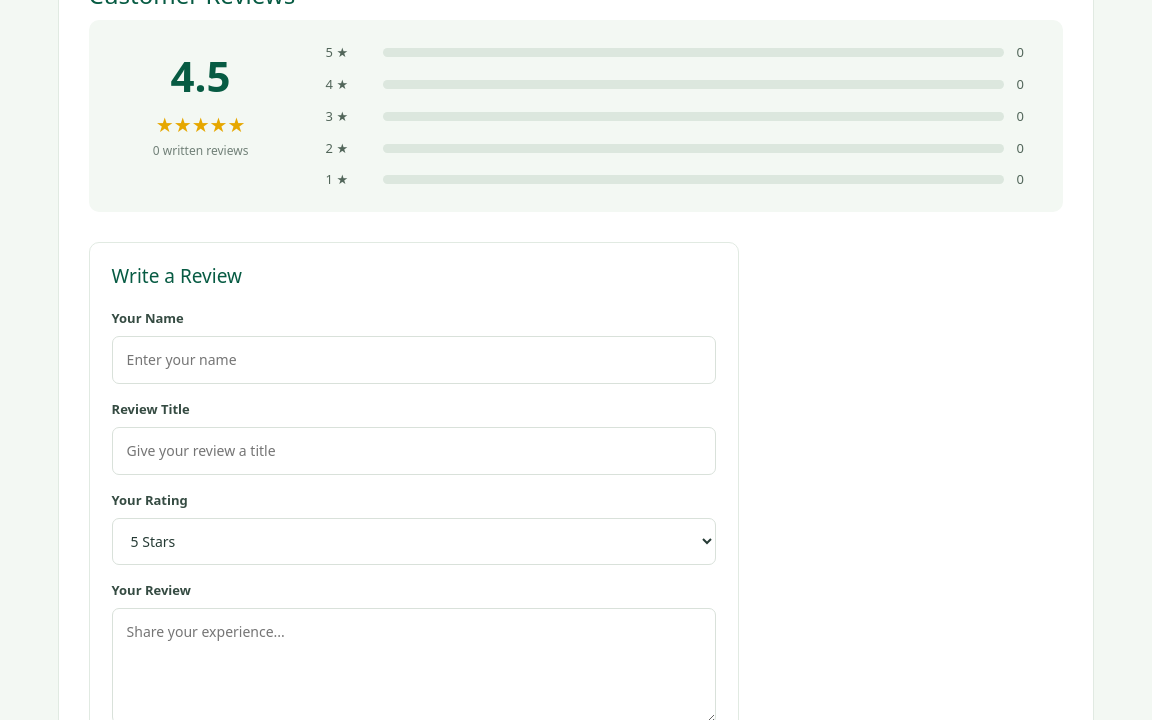
Test case: ProductDetails Component › Customer Reviews › displays the submitted review in the review list
(page scrolled)
In the field with id "review-name": (414,360) [112, 336, 716, 384], type "Test User"
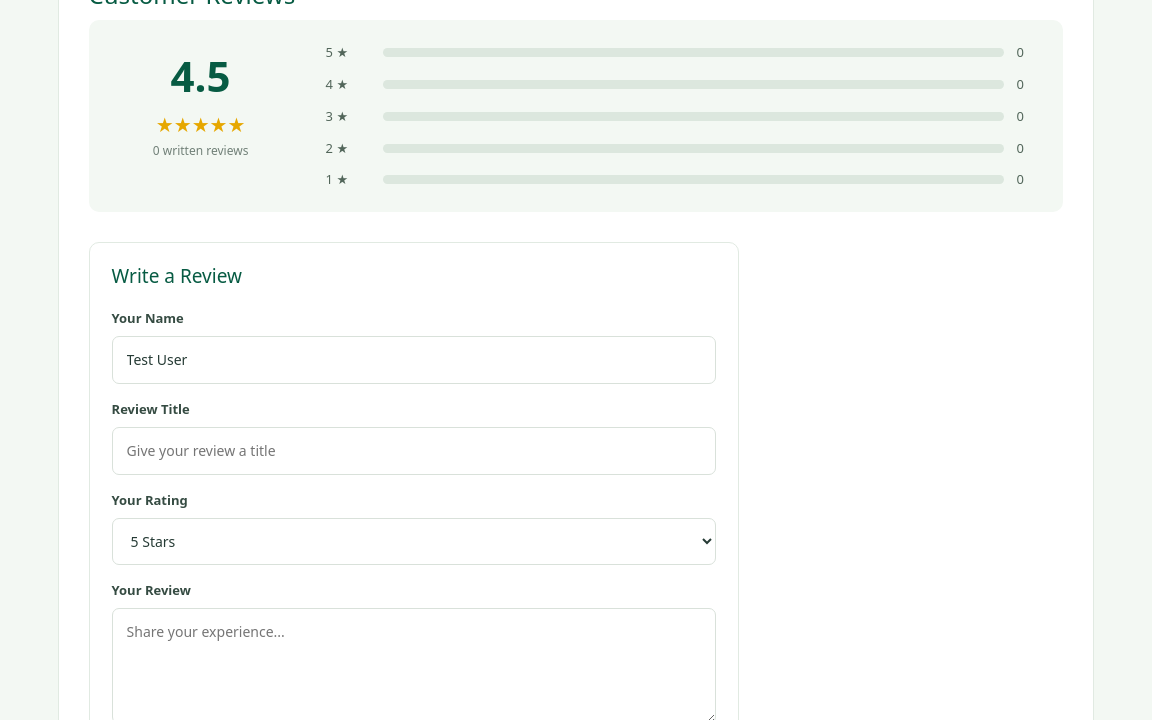
In the field with id "review-title": (414,451) [112, 427, 716, 475], type "Excellent Product"
(page scrolled)
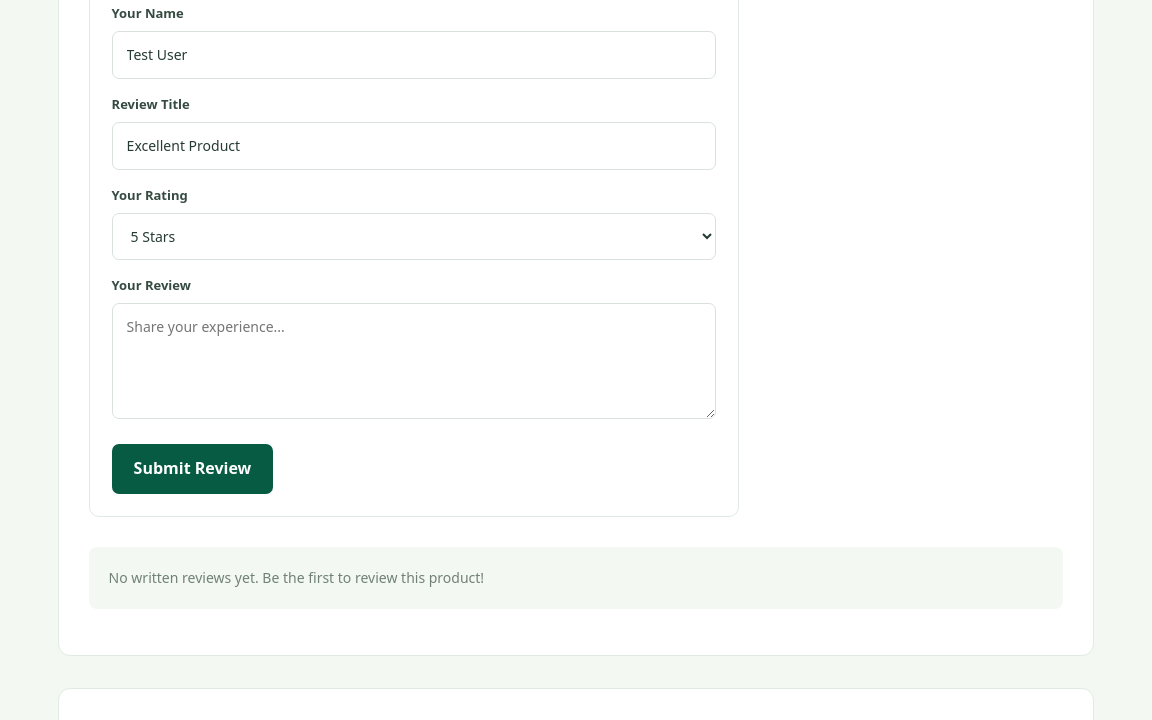
In the text box with id "review-comment": (414,361) [112, 303, 716, 419], type "Very useful and sustainable."
(page scrolled)
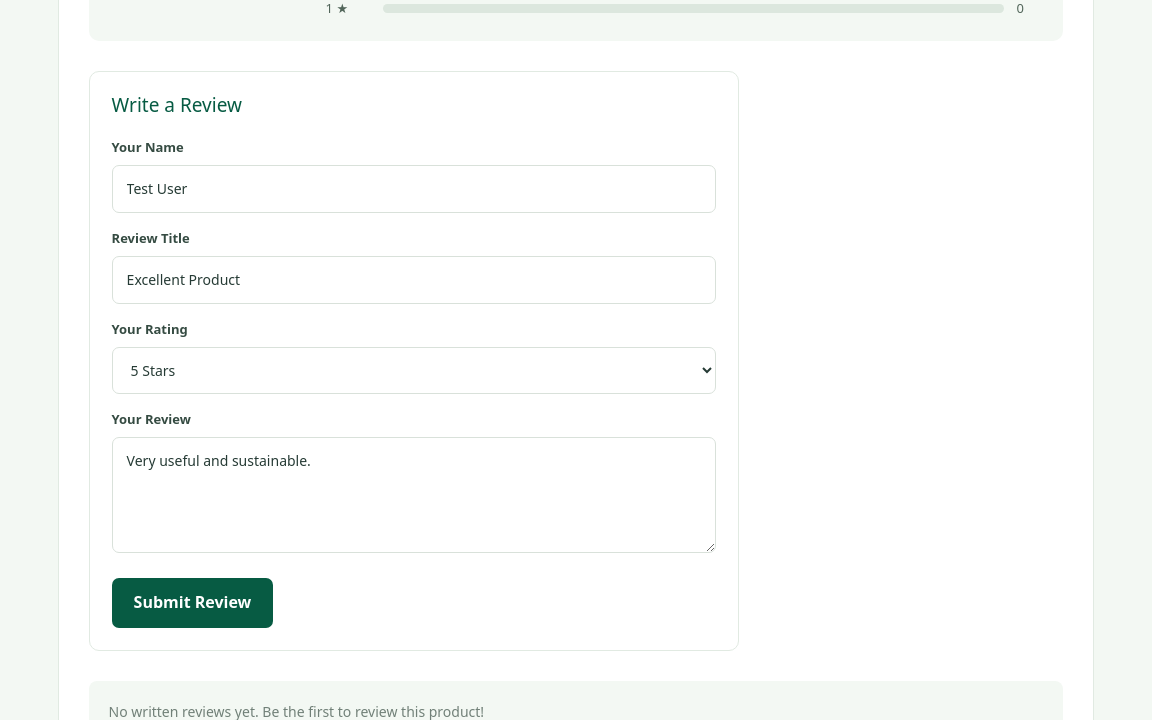
Submit the form with class "review-form", box [89, 71, 739, 651]
(page scrolled)
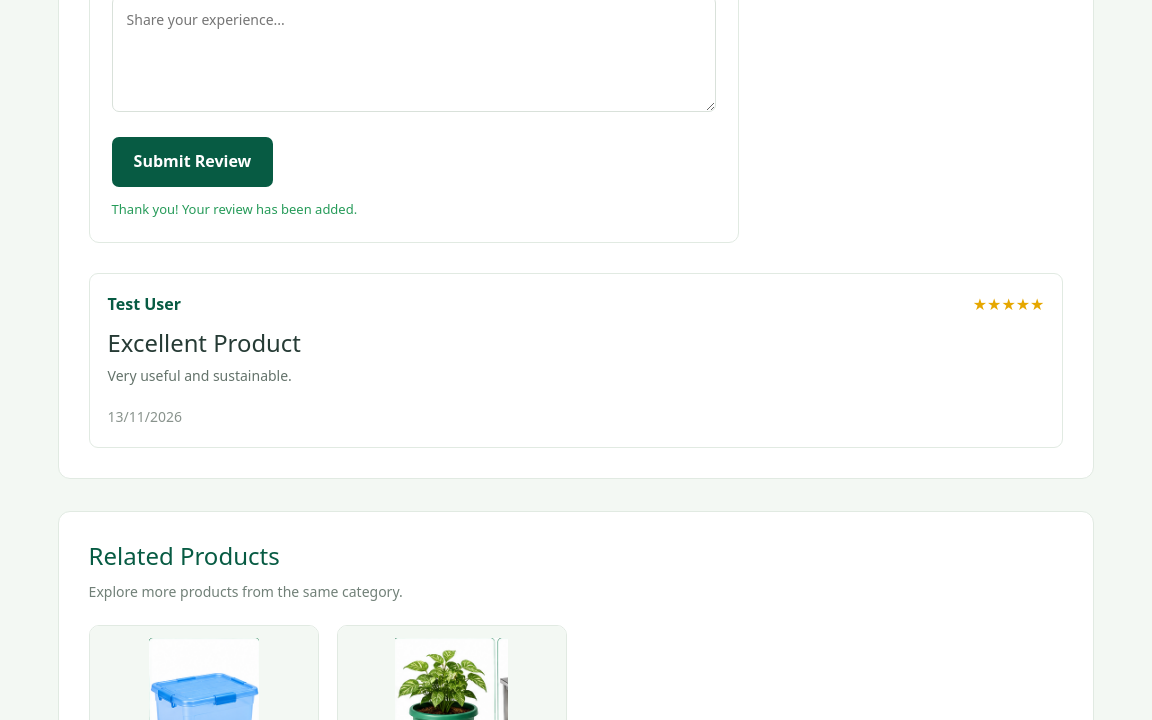
Check: the element with class "review-list" shows "Test User", box [108, 292, 181, 314]
Check: the element with class "review-list" shows "Excellent Product", box [108, 327, 301, 359]
Check: the element with class "review-list" shows "Very useful and sustainable.", box [108, 366, 292, 385]
